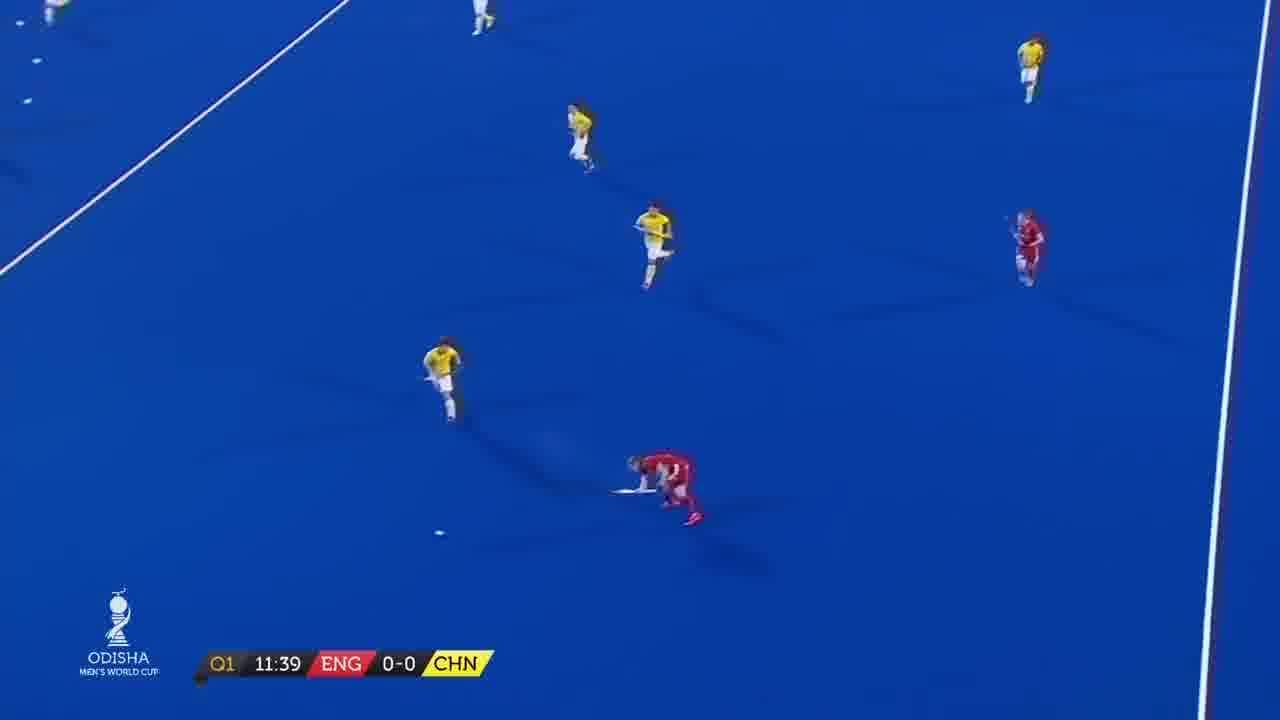ball: (432, 518, 448, 542)
